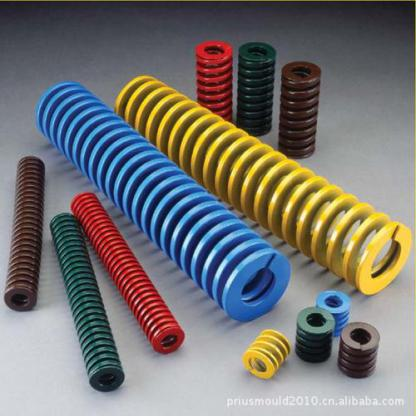FOD: (113, 71, 414, 298), (32, 78, 293, 324), (70, 189, 188, 354), (50, 210, 125, 393), (2, 154, 48, 316), (278, 58, 321, 163), (192, 40, 235, 126), (334, 322, 383, 383), (240, 327, 290, 382), (294, 306, 337, 364)
